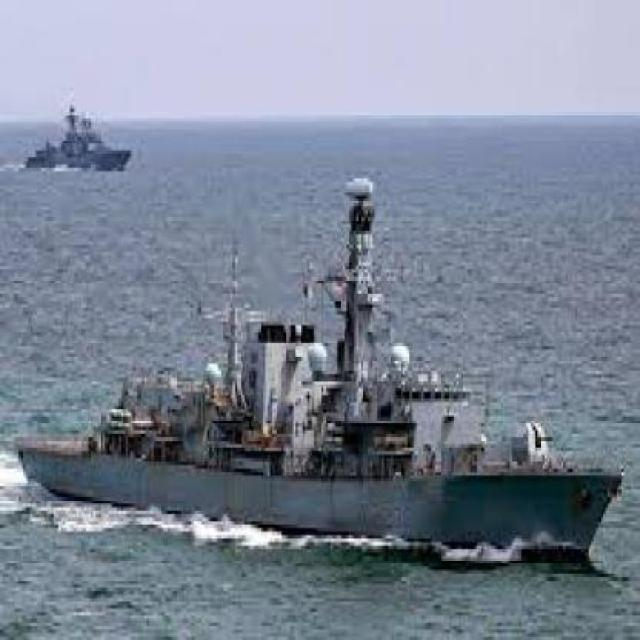warship2: (20, 162, 627, 582), (22, 113, 148, 176)
